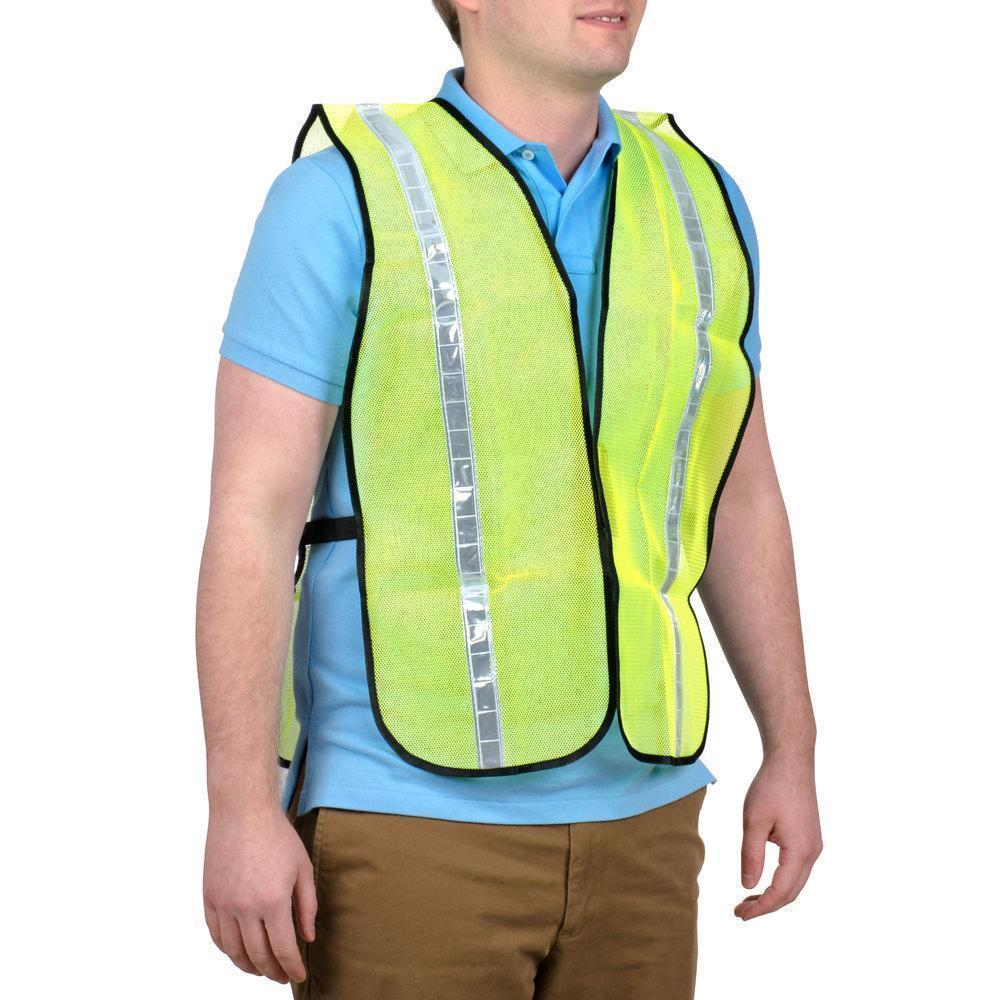vest: (271, 101, 755, 780)
